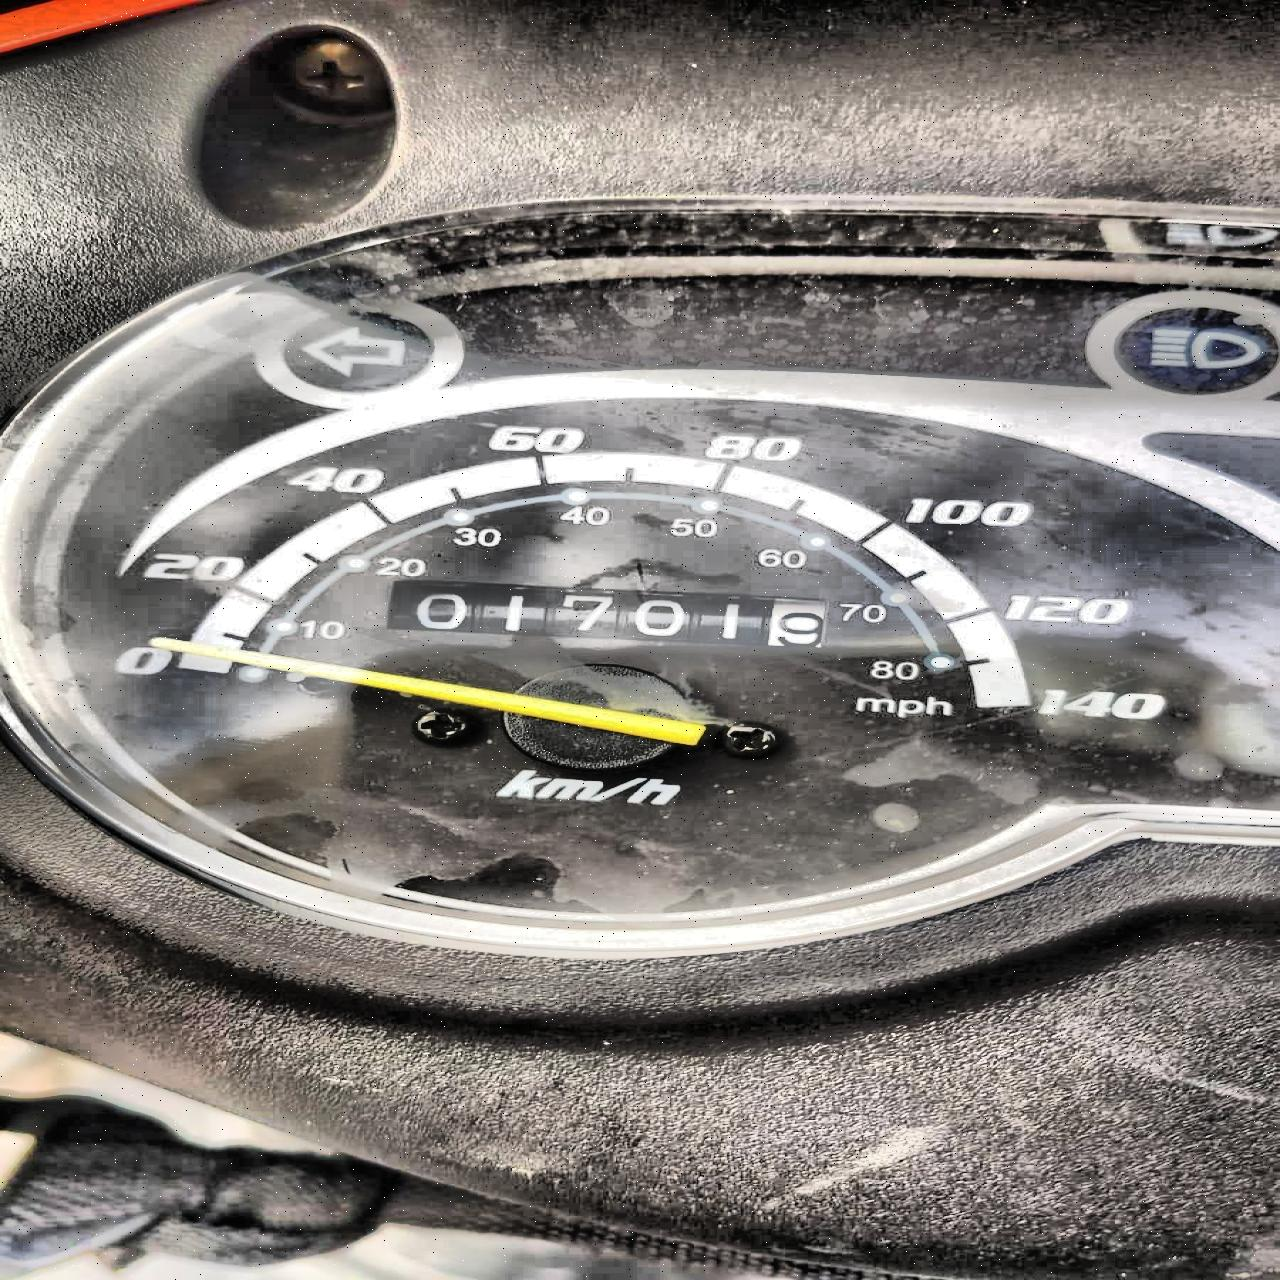0: (413, 590, 470, 631), (629, 597, 687, 636)
1: (712, 600, 747, 640), (498, 592, 530, 632)
7: (558, 592, 612, 632)
9: (774, 610, 825, 648)
odometer: (377, 576, 835, 651)
